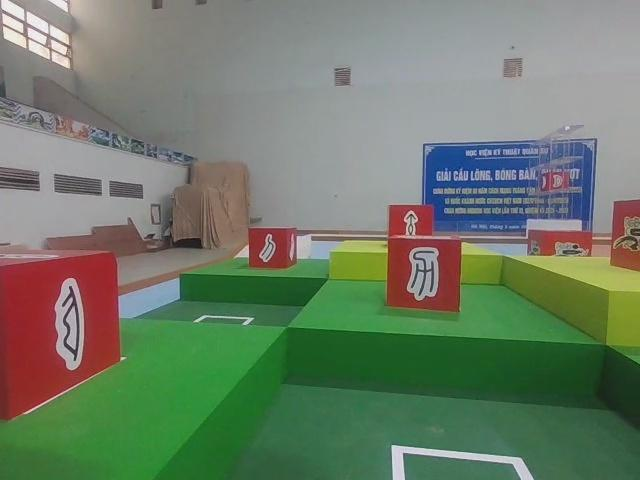R1: (609, 197, 640, 275)
R2 Fake: (387, 234, 463, 315)
R2 Real: (0, 246, 120, 420), (247, 225, 299, 270), (386, 201, 436, 242)
